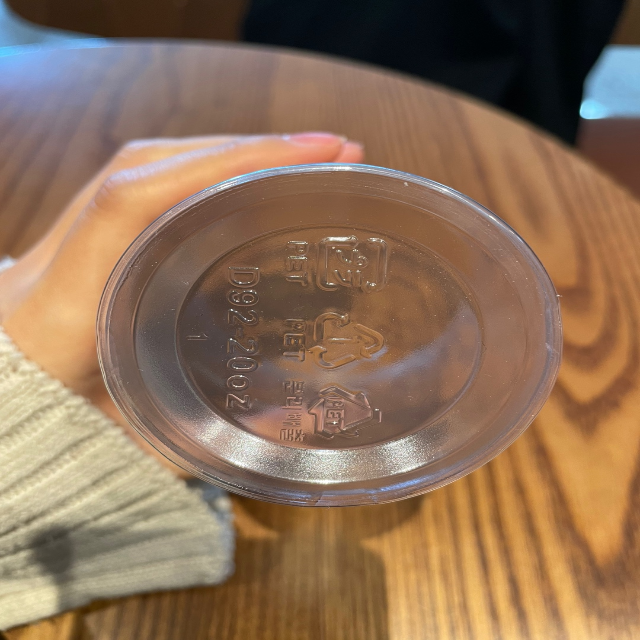pet: (280, 223, 397, 304), (279, 304, 397, 376), (279, 374, 384, 447)
